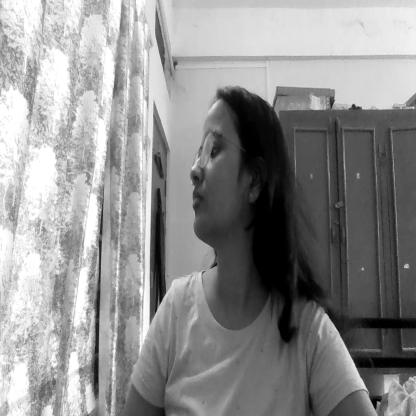Distracted: (185, 90, 269, 254)
